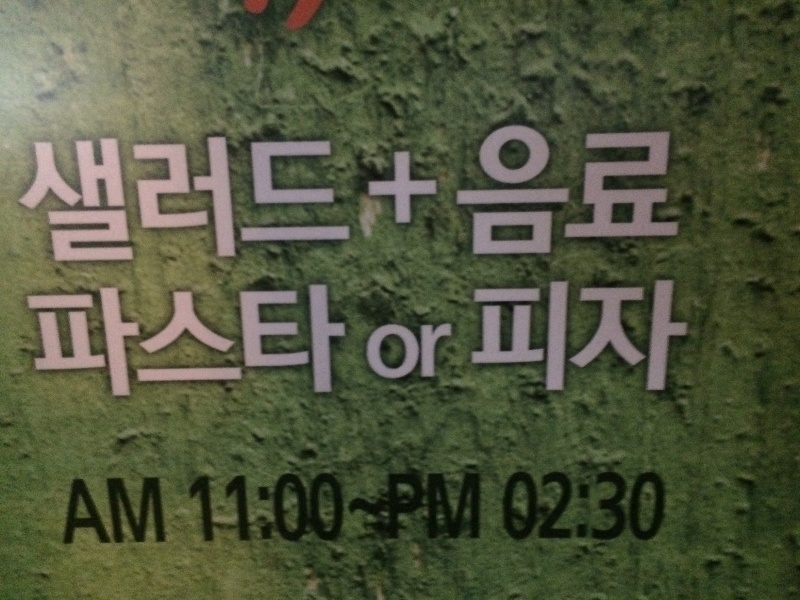text: (465, 123, 480, 264), (481, 123, 496, 264), (497, 123, 512, 264), (513, 123, 528, 264), (529, 123, 544, 264), (545, 123, 560, 264), (561, 123, 576, 264), (577, 123, 592, 264), (593, 123, 608, 264), (609, 123, 624, 264), (625, 123, 640, 264), (641, 123, 656, 264), (657, 123, 672, 264), (33, 135, 48, 274), (49, 135, 64, 274), (65, 135, 80, 274), (81, 135, 96, 274), (97, 135, 112, 274), (113, 135, 128, 274), (129, 135, 144, 274), (145, 135, 160, 274), (161, 135, 176, 274), (177, 135, 192, 274), (193, 135, 208, 274), (209, 135, 224, 274), (225, 135, 240, 274), (241, 135, 256, 274), (257, 135, 272, 274), (273, 135, 288, 274), (289, 135, 304, 274), (305, 135, 320, 274), (321, 135, 336, 274), (337, 135, 352, 274), (33, 283, 48, 401), (49, 283, 64, 401), (65, 283, 80, 401), (81, 283, 96, 401), (97, 283, 112, 401), (113, 283, 128, 401), (129, 283, 144, 401), (145, 283, 160, 401), (161, 283, 176, 401), (177, 283, 192, 401), (193, 283, 208, 401), (209, 283, 224, 401), (225, 283, 240, 401), (241, 283, 256, 401), (257, 283, 272, 401), (273, 283, 288, 401), (289, 283, 304, 401), (305, 283, 320, 401), (321, 283, 336, 401), (481, 278, 496, 395), (497, 278, 512, 395), (513, 278, 528, 395), (529, 278, 544, 395), (545, 278, 560, 395), (561, 278, 576, 395), (577, 278, 592, 395), (593, 278, 608, 395), (609, 278, 624, 395), (625, 278, 640, 395), (641, 278, 656, 395), (657, 278, 672, 395), (673, 278, 688, 395), (673, 123, 683, 264), (337, 283, 348, 401), (369, 150, 384, 227), (385, 150, 400, 227), (401, 150, 416, 227), (417, 150, 432, 227), (193, 471, 208, 546), (209, 471, 224, 546), (225, 471, 240, 546), (241, 471, 256, 546), (257, 471, 272, 546), (273, 471, 288, 546), (289, 471, 304, 546), (305, 471, 320, 546), (321, 471, 336, 546), (337, 471, 352, 546), (353, 471, 368, 546), (369, 471, 384, 546), (385, 471, 400, 546), (401, 471, 416, 546), (417, 471, 432, 546), (433, 471, 448, 546), (449, 471, 464, 546), (465, 471, 480, 546), (24, 135, 32, 274), (513, 471, 528, 543), (529, 471, 544, 543), (545, 471, 560, 543), (561, 471, 576, 543), (577, 471, 592, 543), (593, 471, 608, 543), (609, 471, 624, 543), (625, 471, 640, 543), (641, 471, 656, 543), (81, 475, 96, 546), (97, 475, 112, 546), (113, 475, 128, 546), (129, 475, 144, 546), (145, 475, 160, 546), (369, 321, 384, 381), (385, 321, 400, 381), (401, 321, 416, 381), (417, 321, 432, 381), (433, 321, 448, 381), (25, 283, 32, 401), (657, 471, 668, 543), (474, 278, 480, 395), (71, 475, 80, 546), (161, 475, 168, 546), (433, 150, 439, 227), (506, 471, 512, 543), (353, 135, 355, 274), (449, 321, 453, 381), (689, 278, 691, 395), (189, 471, 192, 546), (481, 471, 483, 546)
